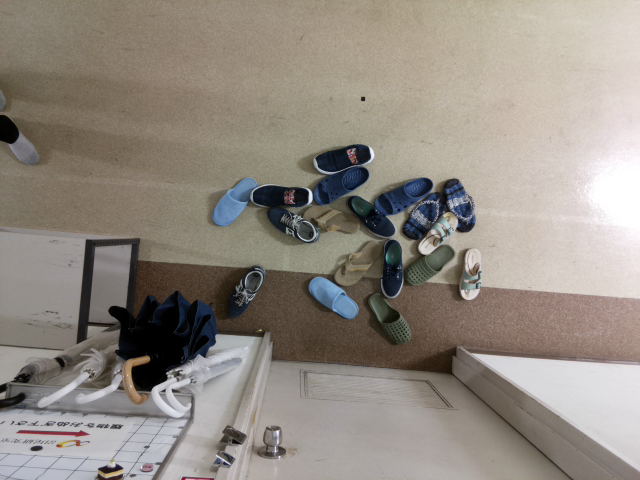Copy of Copy of Copy of Copy of Copy of Copy of Copy of Copy of Copy of Copy of: (330, 224, 389, 293), (431, 169, 490, 234), (401, 178, 460, 243), (407, 201, 466, 265), (401, 230, 459, 295), (368, 167, 436, 217), (367, 289, 418, 355), (375, 230, 414, 301)
Copy of Copy of Copy of Copy of Copy of Copy of Copy of Copy of Copy of shoe: (336, 190, 404, 241)
Copy of Copy of Copy of Copy of Copy of Copy of Copy of Copy of shoe: (304, 163, 374, 208)
Copy of Copy of Copy of Copy of Copy of Copy of Copy of shoe: (300, 194, 370, 238)
Copy of Copy of Copy of Copy of Copy of Copy of shoe: (264, 197, 318, 247)
Copy of Copy of Copy of Copy of Copy of shoe: (305, 272, 365, 325)
Copy of Copy of Copy of Copy of Copy of umbrella: (1, 326, 103, 410)
Copy of Copy of Copy of Copy of shoe: (302, 137, 382, 177)
Copy of Copy of Copy of Copy of umbrella: (28, 324, 133, 411)
Copy of Copy of Copy of shoe: (240, 176, 320, 217)
Copy of Copy of Copy of umbrella: (69, 342, 142, 412)
Copy of Copy of shoe: (201, 170, 265, 231)
Copy of Copy of umbrella: (104, 283, 225, 406)
Copy of shoe: (451, 240, 491, 307)
Copy of umbrella: (161, 349, 261, 422)
shoe: (223, 253, 271, 323)
umbrella: (151, 345, 260, 422)
